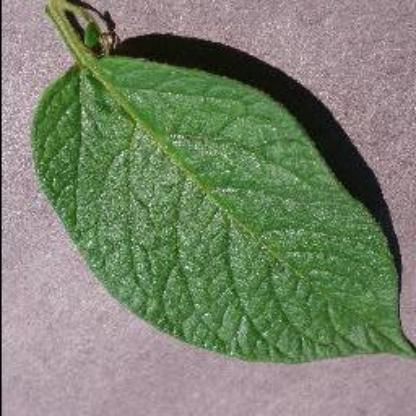Healthy-plant: (32, 0, 414, 369)
